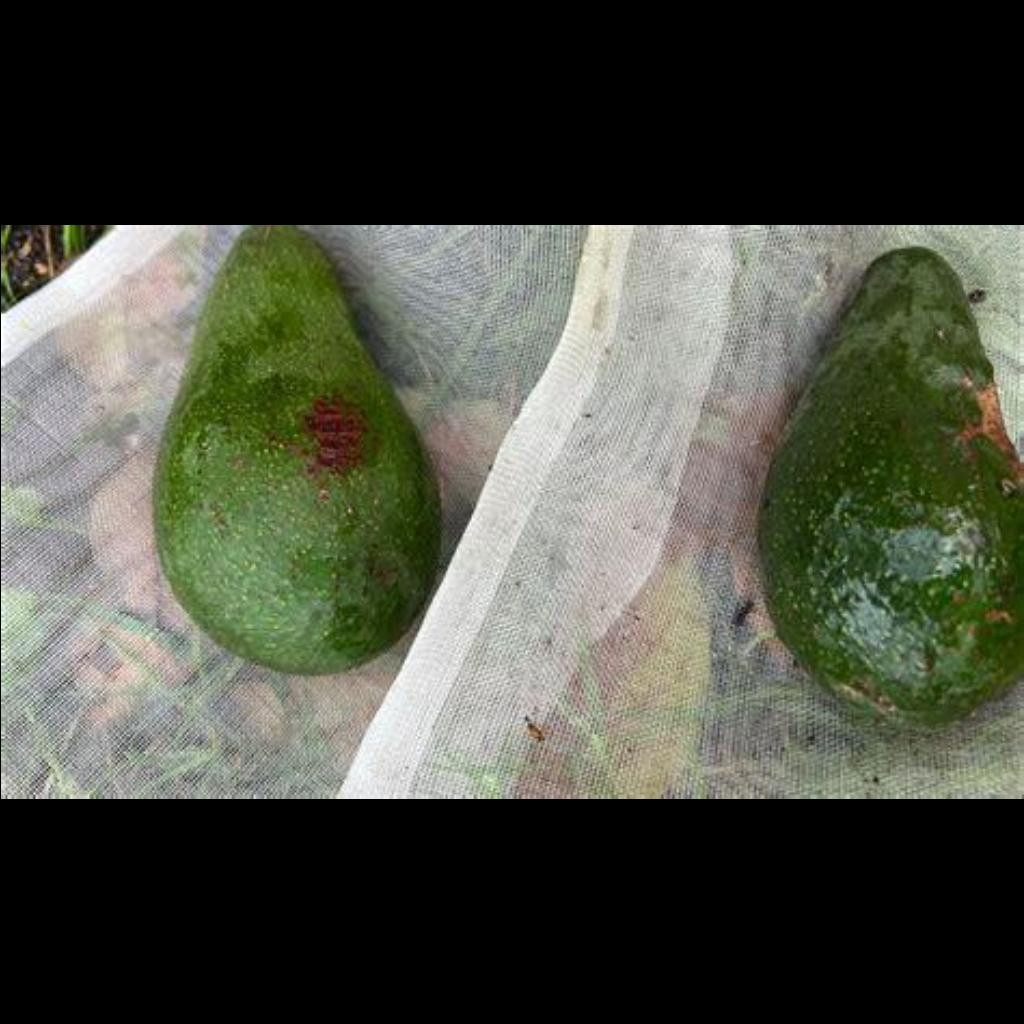fruto_sano: (750, 242, 1024, 728), (145, 230, 445, 673)
